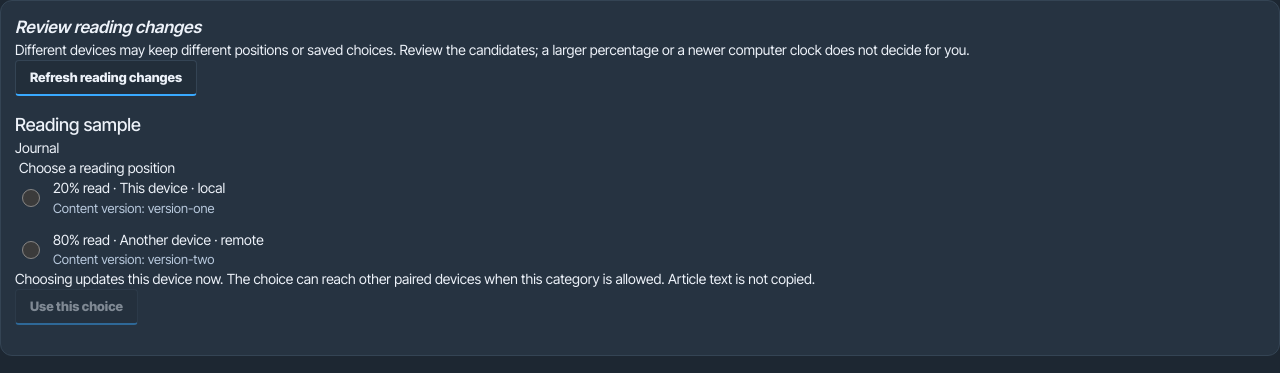
Scenario: shows a reload notice and no error when a confirmed choice's refresh fails
The image size is (1280, 373).
Click the radio button labelled "20% read · This device · local Content version: version-one". click: (31, 198)
box: [22,182,40,216]
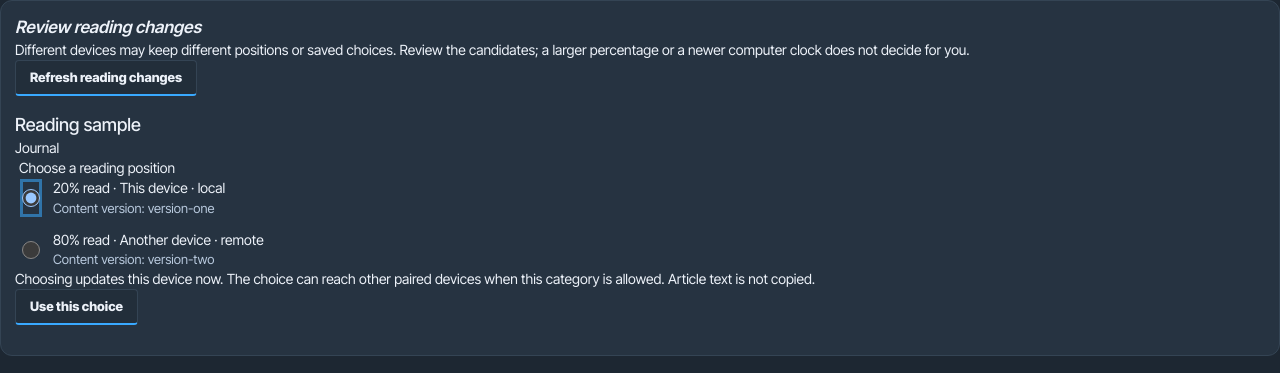
Click the button "Use this choice". click: (76, 307)
box: [15,289,138,325]
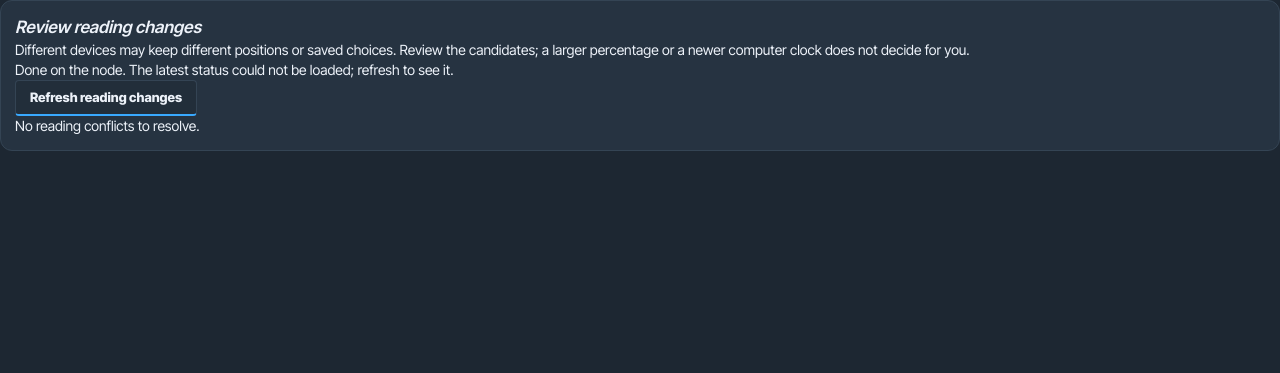
Result: the message reads "Done on the node. The latest status could not be loaded; refresh to see it." at [15,61,454,78]
